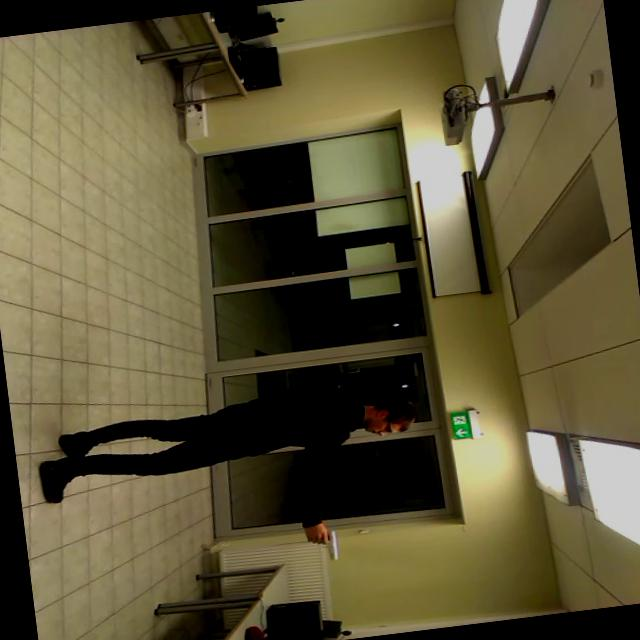handgun: (305, 528, 345, 566)
